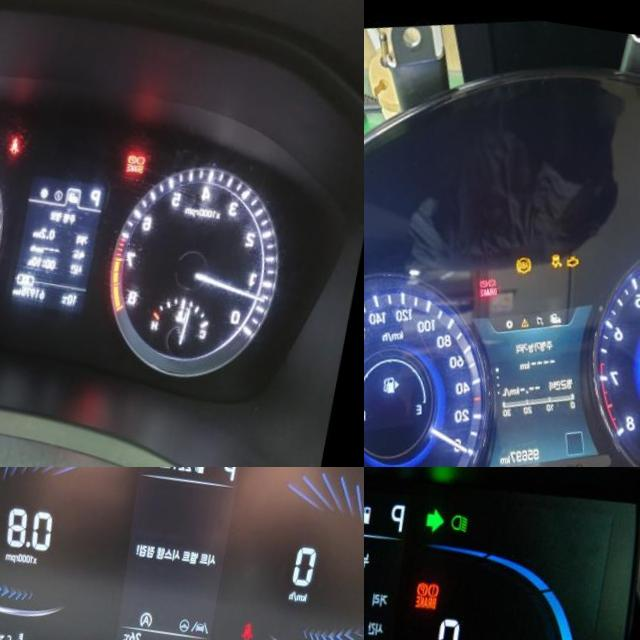Central Warning lamp: (97, 633, 111, 640)
LaneCenteringOff: (202, 608, 222, 624)
Low beam: (459, 499, 480, 520)
